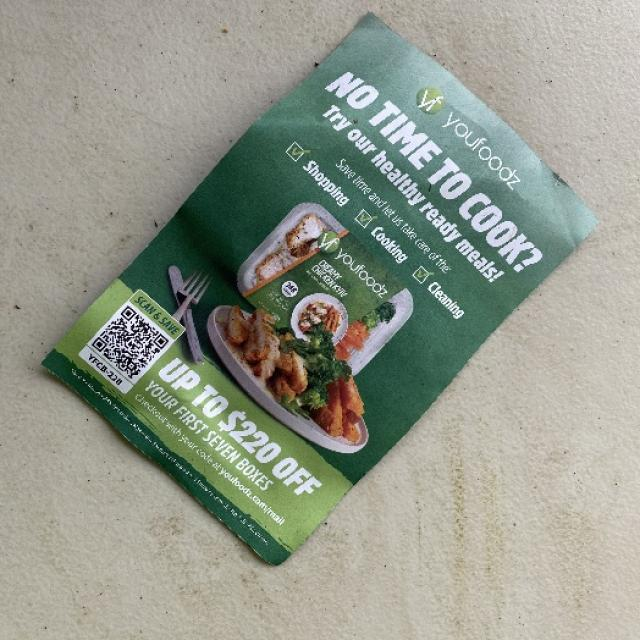paper: (40, 10, 598, 565)
